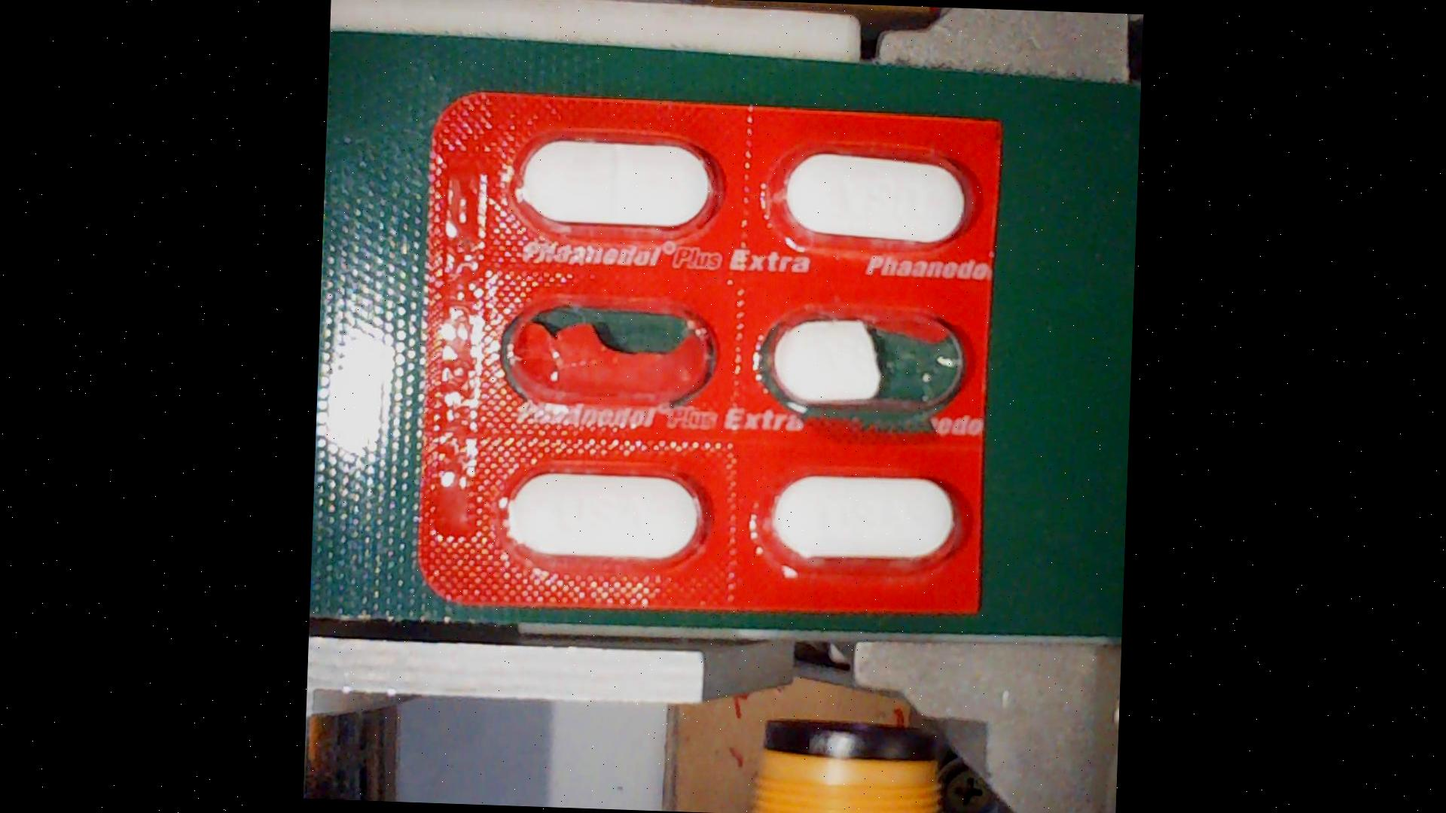Empty: (490, 286, 722, 422)
Full: (497, 442, 728, 579), (751, 127, 982, 264), (746, 450, 978, 586), (501, 111, 732, 247)
Partial: (751, 290, 982, 427)
